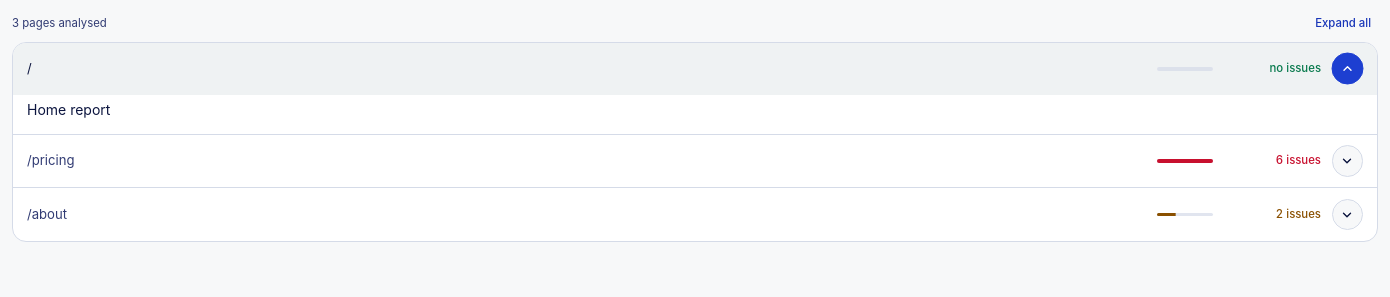
Test: PageSections › opens a page in one click
Click the button "/pricing 6 issues": click(51, 160) [13,135,1377,187]
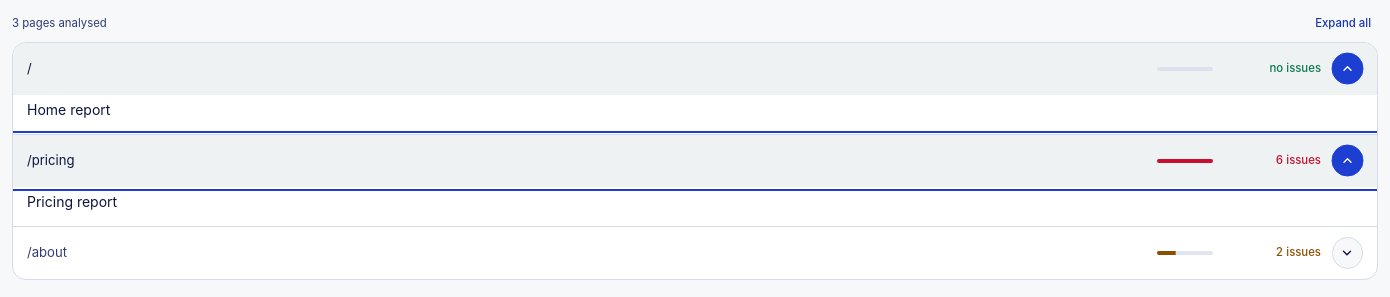
Expected: the text "Pricing report" is shown, [27,193,117,210]
